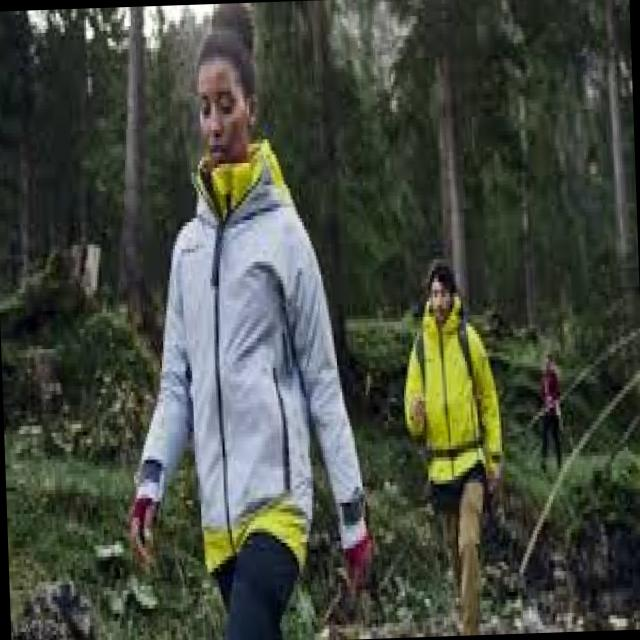Jacket: (115, 166, 368, 544), (396, 314, 501, 510)
